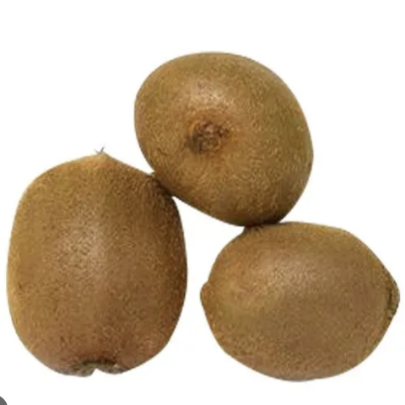kiwi: (0, 135, 196, 398), (120, 37, 333, 242), (189, 222, 399, 402)
